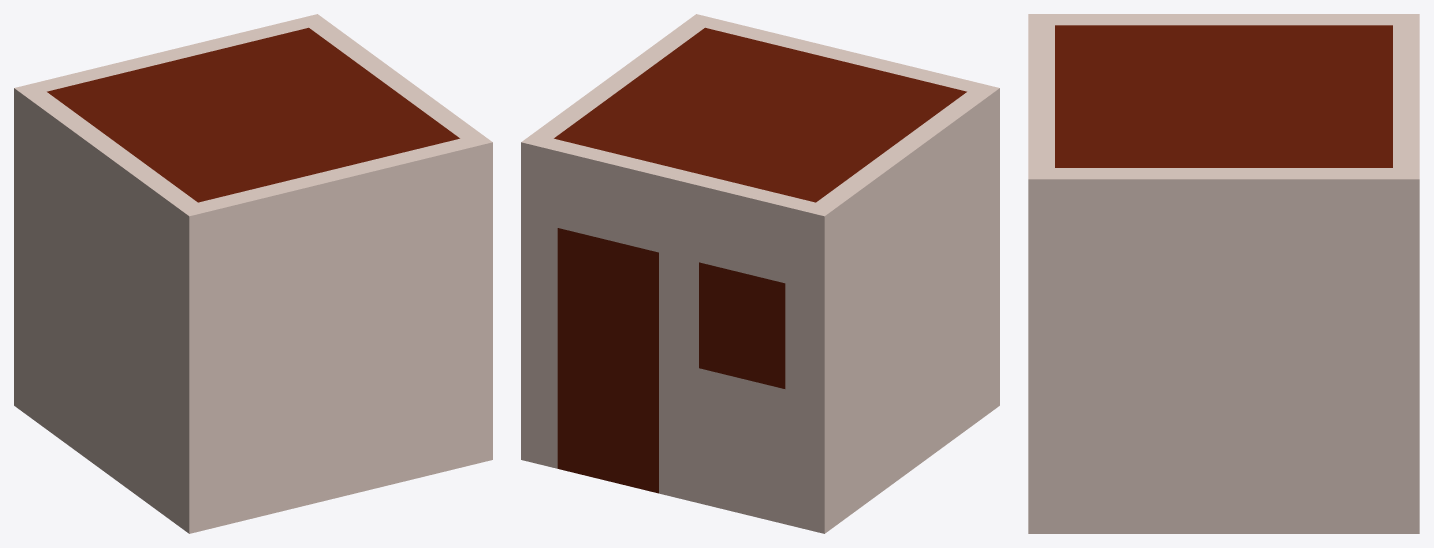
The model's file is house 1.fbx.
3 views of the same model, side by side, from view 1: azimuth 30°, elevation 25°; view 2: azimuth 150°, elevation 25°; view 3: azimuth 270°, elevation 25° (orthographic). The views are drawn at different scales.
Parts seen in each view (by area): view 1: Cube.001; view 2: Cube.001; view 3: Cube.001.
Part boxes in pixels (x1,y1,x2,y2): Cube.001: (14,14,492,533); Cube.001: (521,14,999,533); Cube.001: (1028,14,1419,533).
Bounding box in the file's own units: 200 × 200 × 200.
